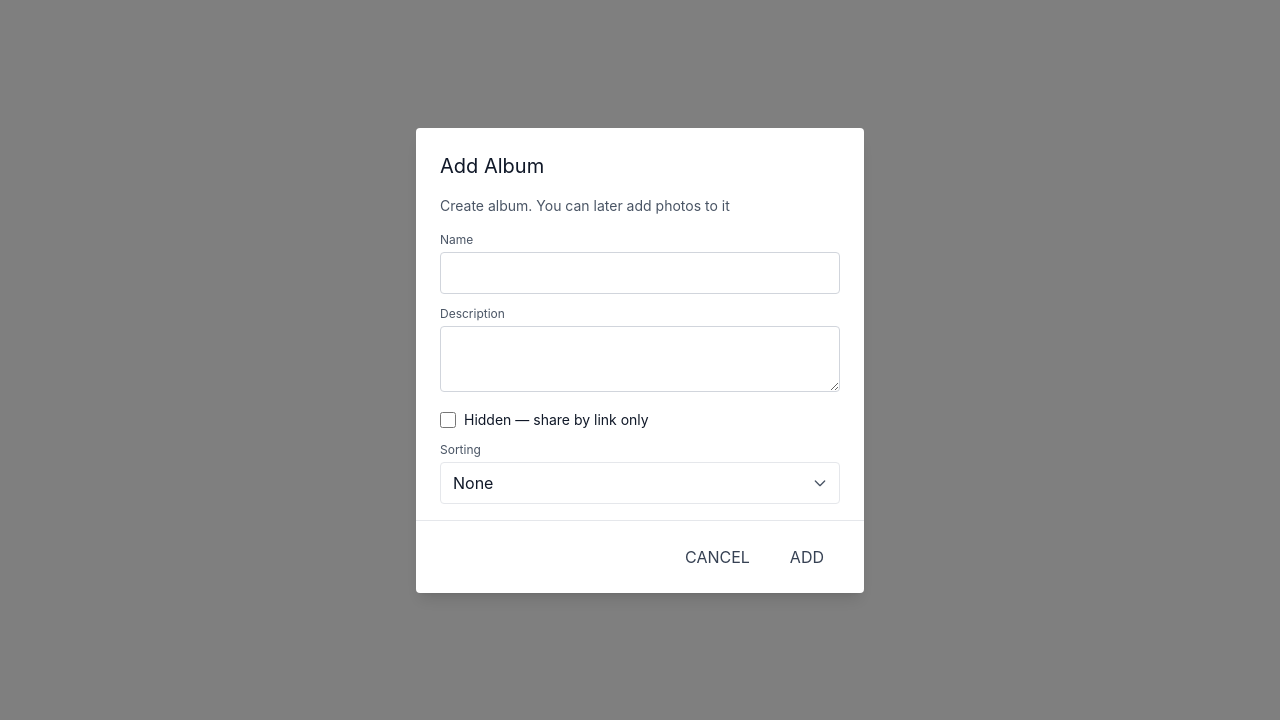
Test case: AlbumAddDialog › hides the code field until the album is marked hidden
The width and height of the screenshot is (1280, 720).
Expected: the field labelled "Share code" is not shown
Click the checkbox labelled "Hidden — share by link only".
click(448, 420)  # box [440,412,456,428]
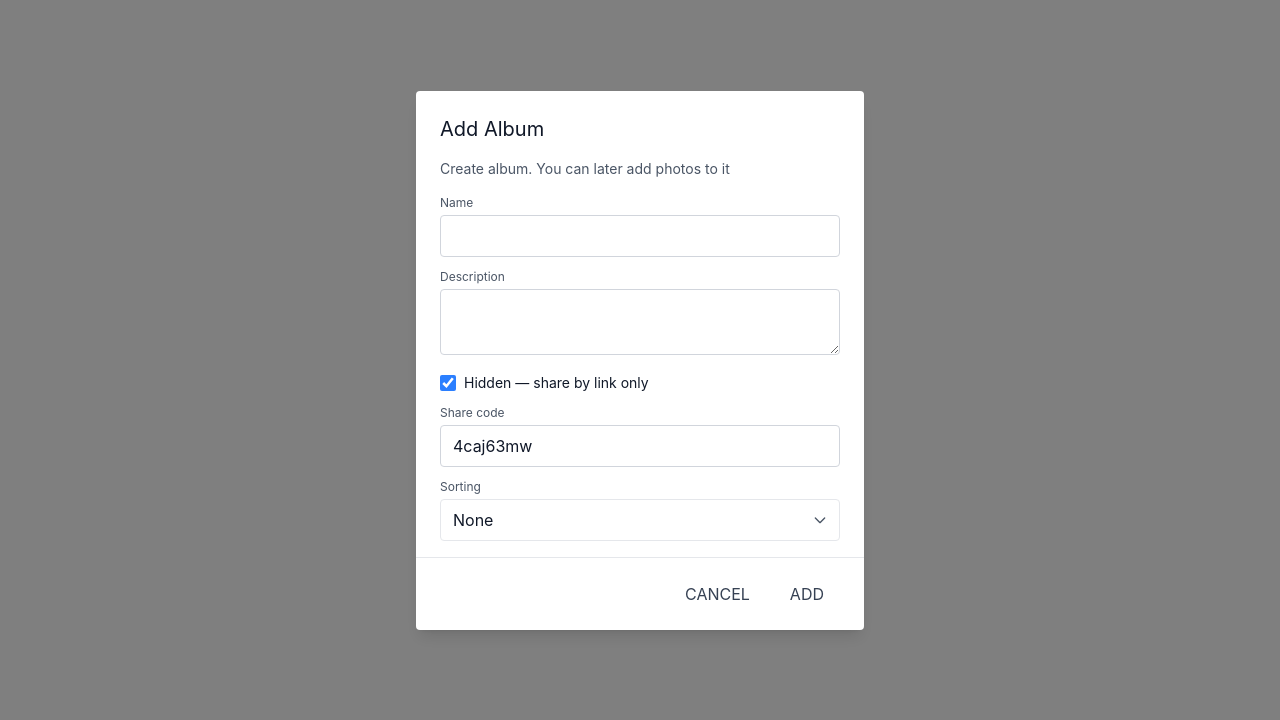
Expected: the field labelled "Share code" is not empty, [440,424,840,466]
